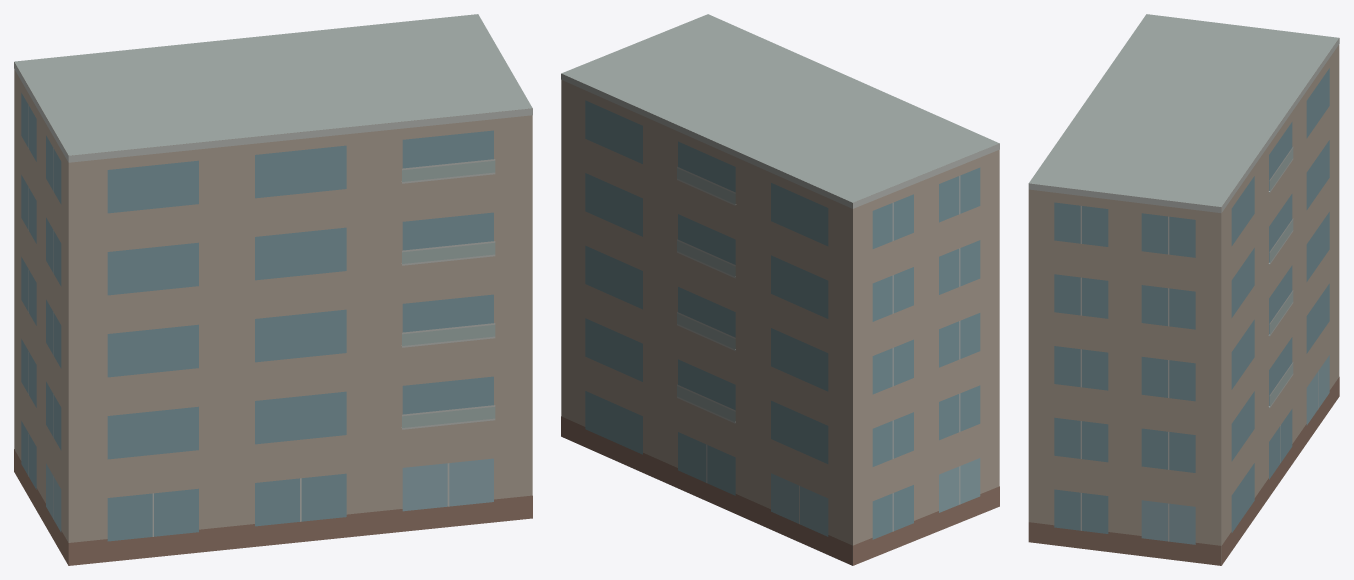
File: survey-upis-32961293.glb
The picture shows the model from 3 angles, left to right: view 1: azimuth 30°, elevation 25°; view 2: azimuth 150°, elevation 25°; view 3: azimuth 270°, elevation 25°; orthographic projection. The views are drawn at different scales.
Visible parts, largest first — view 1: survey-upis-32961293.tmp; view 2: survey-upis-32961293.tmp; view 3: survey-upis-32961293.tmp.
Part boxes in pixels (box(x1,y1,x2,y2)): survey-upis-32961293.tmp: box(14, 14, 532, 565); survey-upis-32961293.tmp: box(561, 14, 999, 565); survey-upis-32961293.tmp: box(1028, 14, 1339, 565).
Size of the model in its own units: 16.64 by 14.4 by 11.32.
